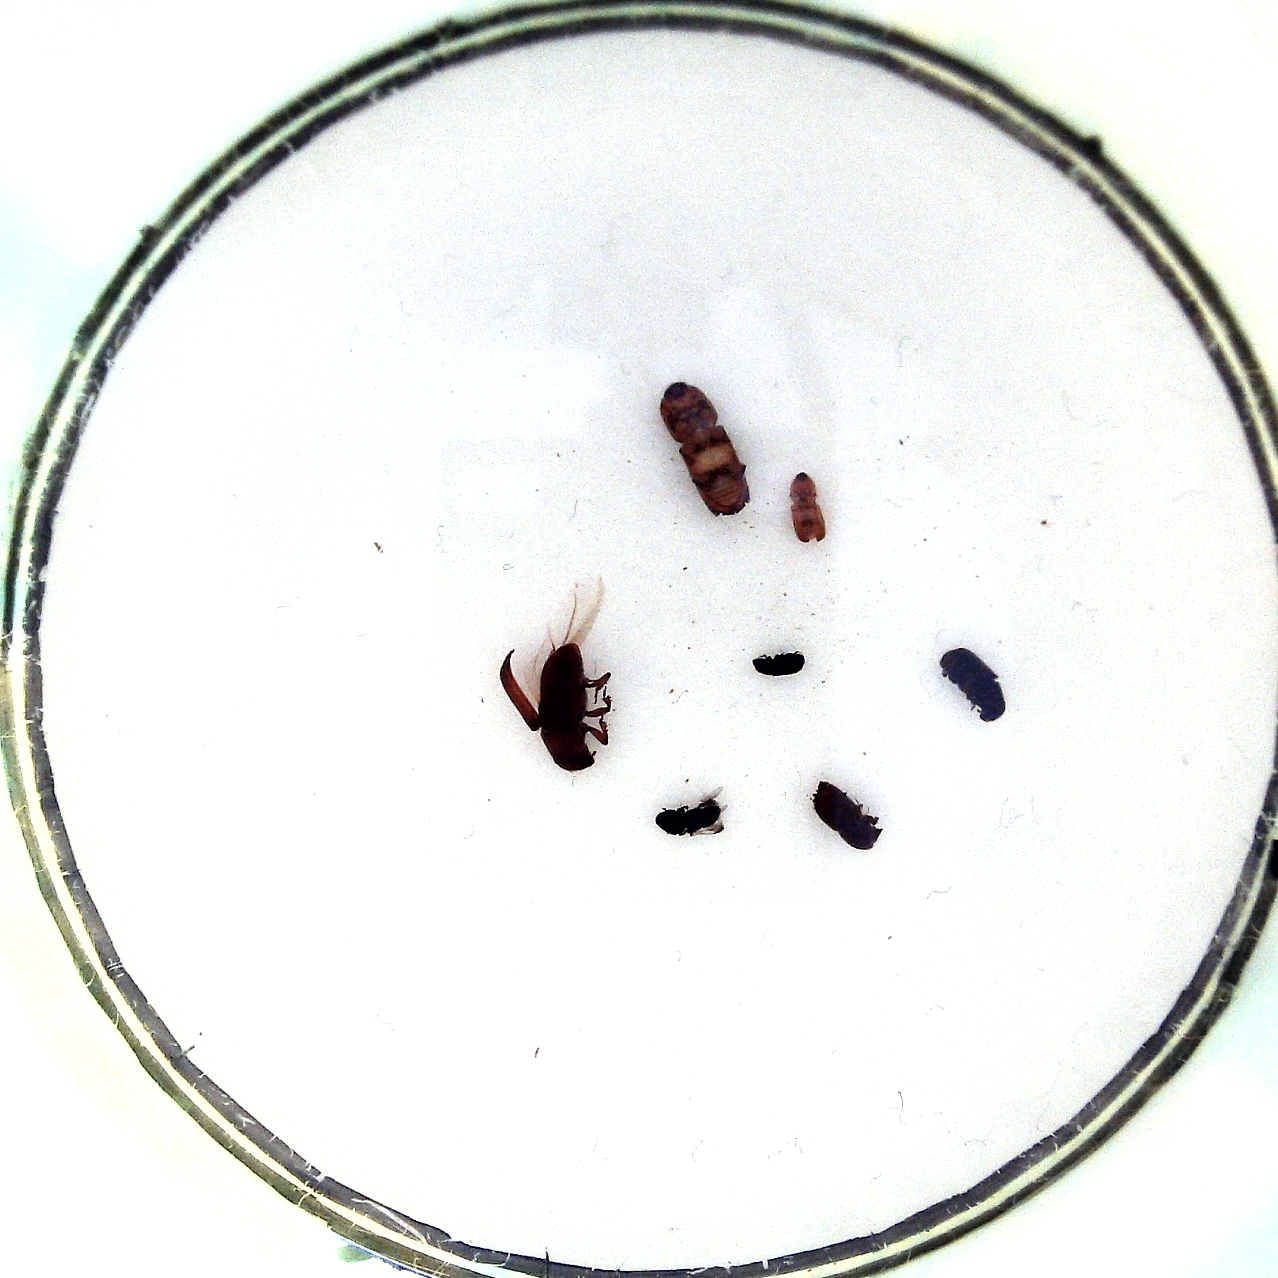Boerner: (654, 375, 756, 521)
Leconte: (494, 569, 623, 774)
Linnaeus: (804, 769, 885, 852)
acuminatus: (784, 467, 833, 547)
armandi: (935, 639, 1015, 726)
coleoptera: (650, 783, 735, 841), (748, 644, 809, 685)
